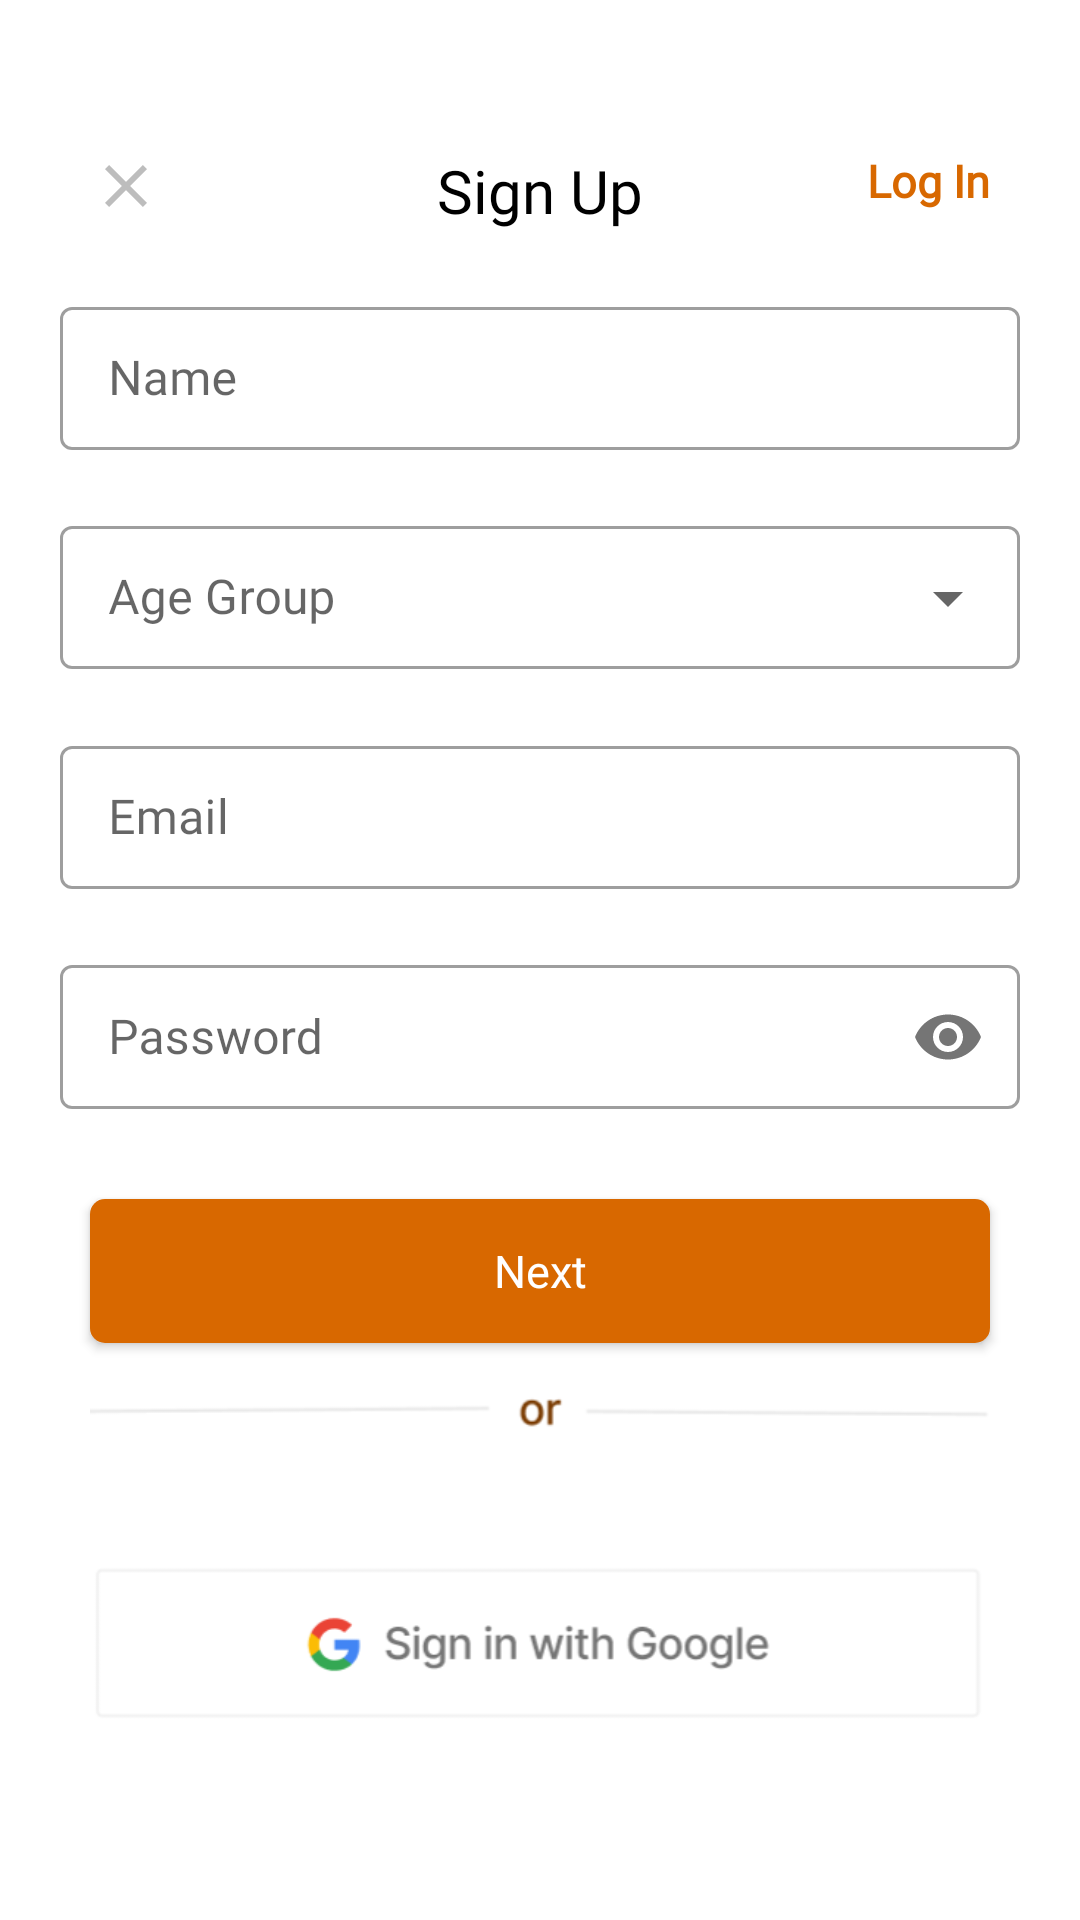

Screen size 1080x1920. Icon name, then its center in pixels as (x,y):
close: (126,186)
